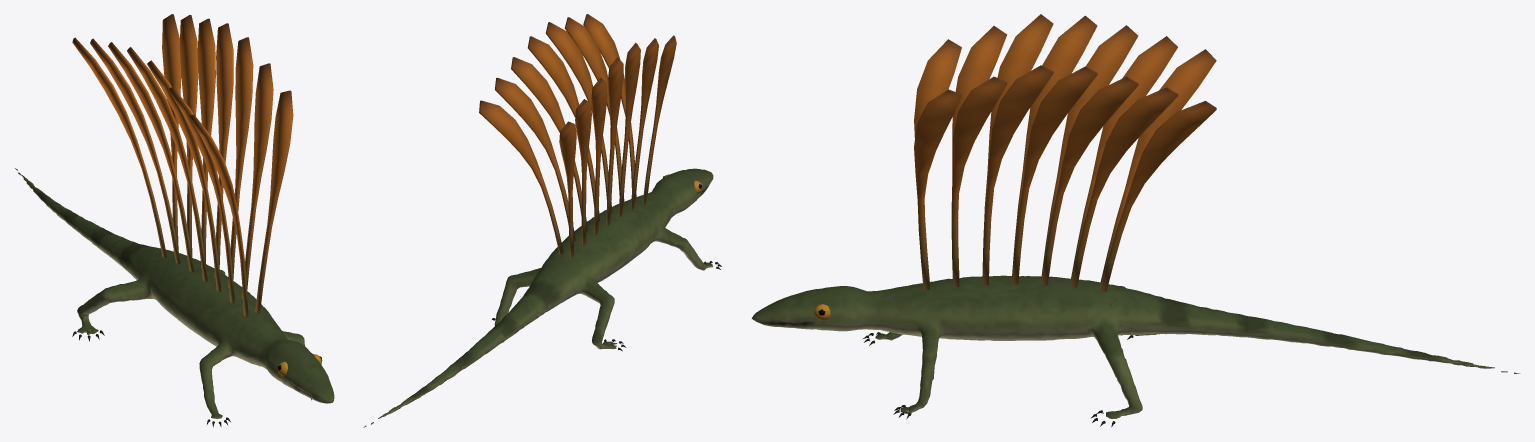
The model's file is Longisquama.fbx.
3 renders of one model, left to right at view 1: azimuth 30°, elevation 25°; view 2: azimuth 150°, elevation 25°; view 3: azimuth 270°, elevation 25°, orthographic. The views are drawn at different scales.
Visible parts, largest first — view 1: Longisquama; view 2: Longisquama; view 3: Longisquama.
Boxes of the visible parts, left/top/right/bottom form: Longisquama: left=15, top=14, right=334, bottom=427; Longisquama: left=363, top=14, right=721, bottom=427; Longisquama: left=751, top=14, right=1520, bottom=427.
Size of the model in its own units: 0.5056 by 0.9505 by 1.92.
